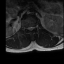CCS_normal: (29, 24, 32, 32)
LFS_stenosis: (34, 24, 36, 30)
LLS_normal: (32, 24, 34, 31)
RFS_stenosis: (25, 24, 27, 31)
RLS_normal: (27, 24, 29, 31)
